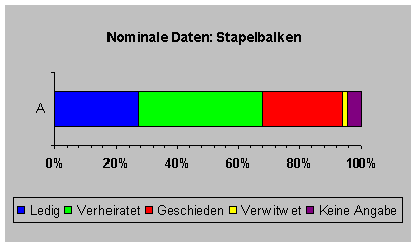canvas: (57, 71, 370, 142)
legend: (11, 193, 407, 225)
title: (104, 28, 304, 48)
x-axis: (50, 144, 365, 150)
x-labels: (43, 156, 377, 170)
y-axis: (49, 70, 58, 149)
y-labels: (33, 94, 50, 128)
